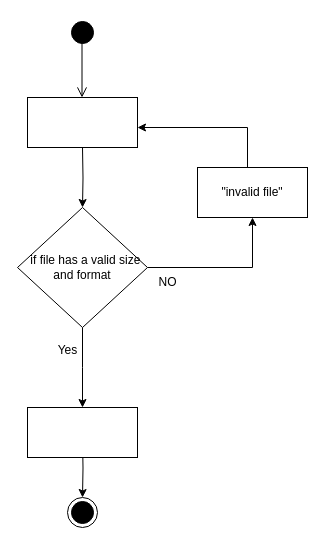
This 325x545 diagram has some shape labels left out. The shapes that lost their labels are listed below. From the top down, each one's box as (x1, y1, x2, y2) in pixels, then its label:
(26, 96, 138, 148): select file
(26, 406, 138, 458): "waiting for file approve"
